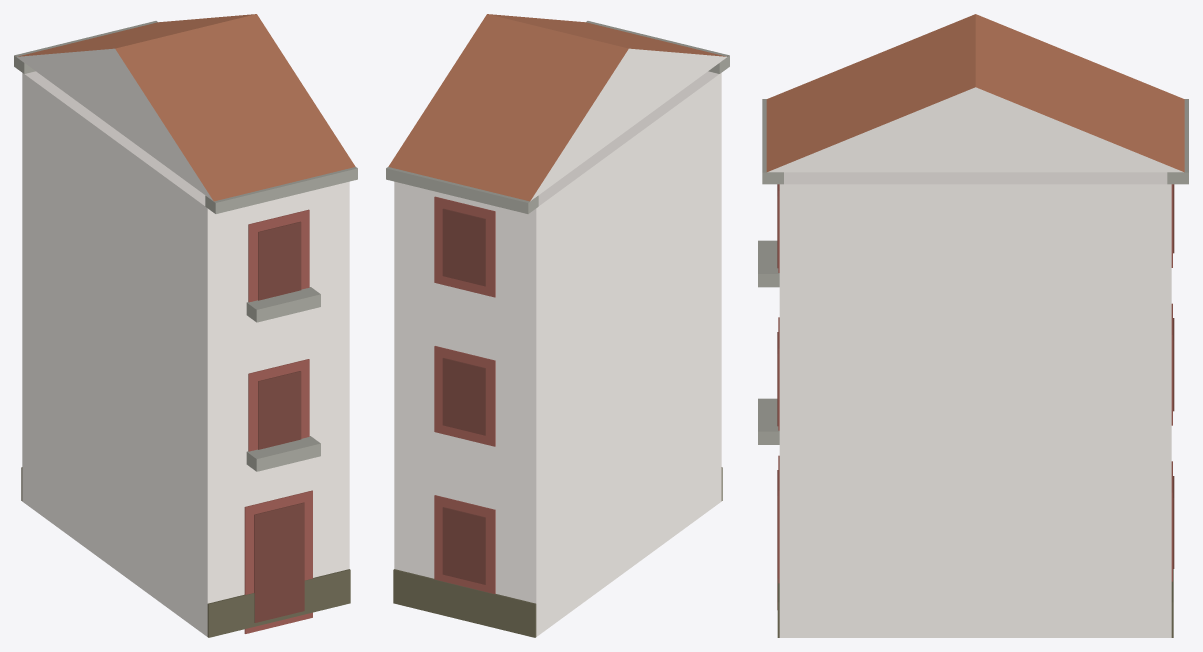
Rendered from SM_KitCuerpo_v6_LOD1.fbx.
The picture shows the model from 3 angles, left to right: view 1: azimuth 30°, elevation 25°; view 2: azimuth 150°, elevation 25°; view 3: azimuth 270°, elevation 25°; orthographic projection. The views are drawn at different scales.
Parts seen in each view (by area): view 1: SM_bloques.kit_cuerpo_v6_LOD1; view 2: SM_bloques.kit_cuerpo_v6_LOD1; view 3: SM_bloques.kit_cuerpo_v6_LOD1.
Boxes of the visible parts, x1=… form: SM_bloques.kit_cuerpo_v6_LOD1: x1=14, y1=14, x2=357, y2=637; SM_bloques.kit_cuerpo_v6_LOD1: x1=386, y1=14, x2=729, y2=637; SM_bloques.kit_cuerpo_v6_LOD1: x1=758, y1=14, x2=1188, y2=637.
Bounding box in the file's own units: 3.99 × 14.11 × 9.9.
